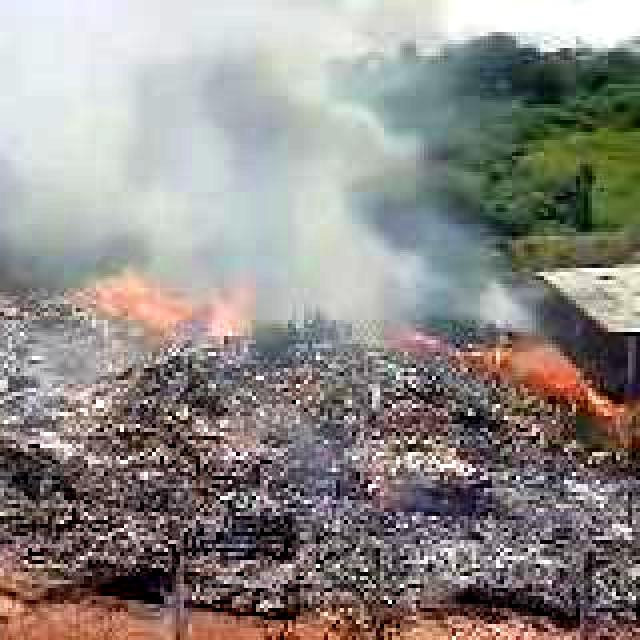smoke: (0, 0, 458, 340)
